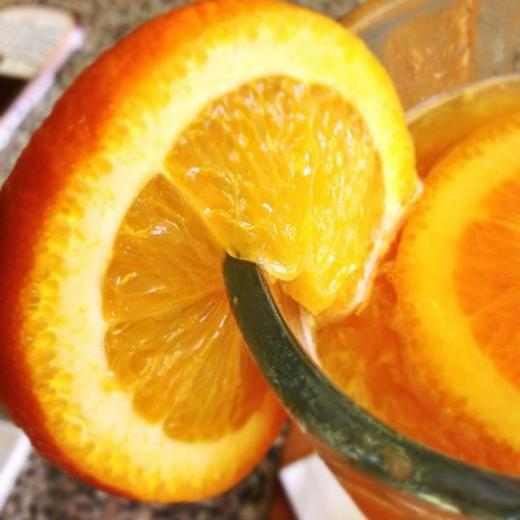Grape: (0, 0, 423, 503), (394, 110, 518, 455)
